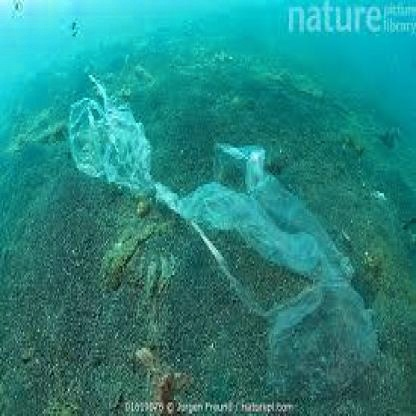pbag: (159, 132, 363, 302), (264, 279, 384, 416), (60, 66, 159, 195)
